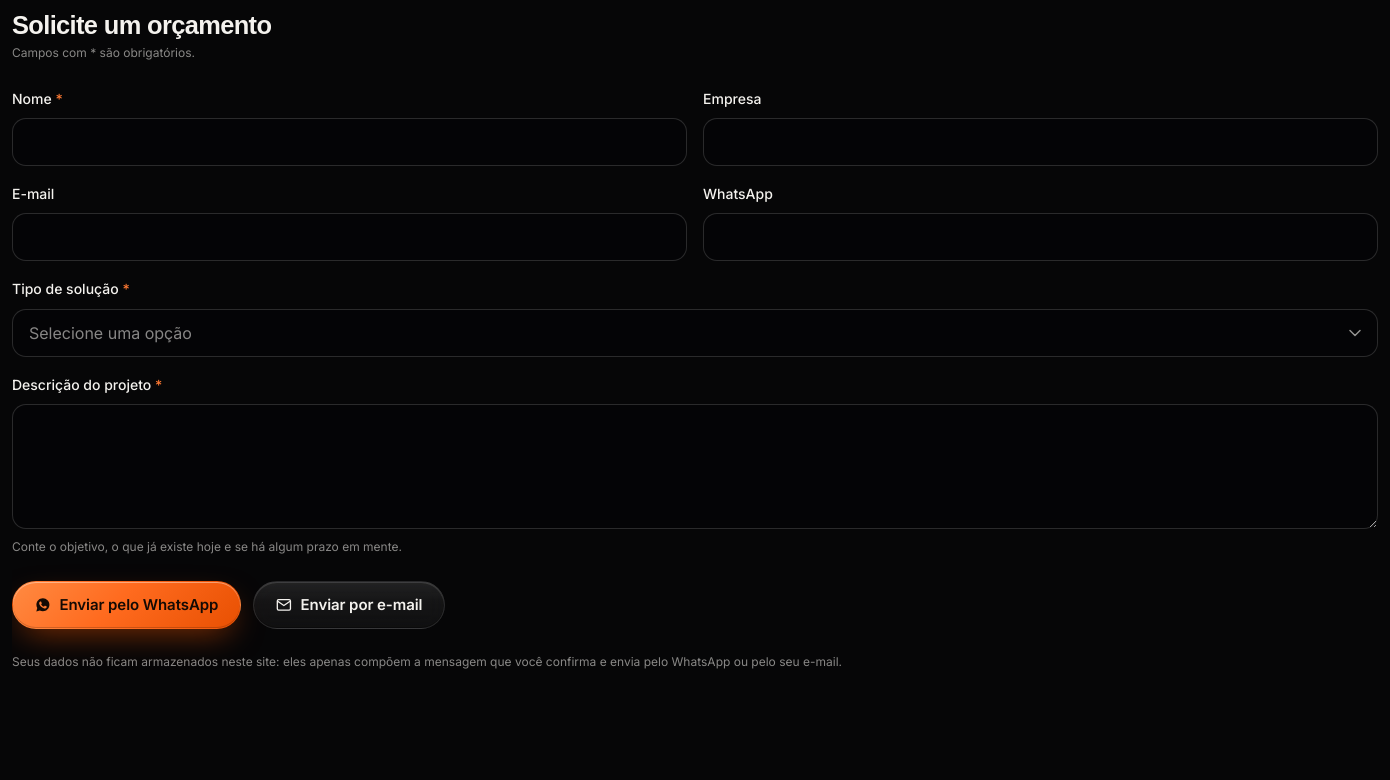
Test: QuoteForm › nunca afirma que a mensagem foi enviada — orienta a concluir no aplicativo
Type "Ana Souza" into the field labelled "Nome *" at (350, 142), box [12,118,687,166]
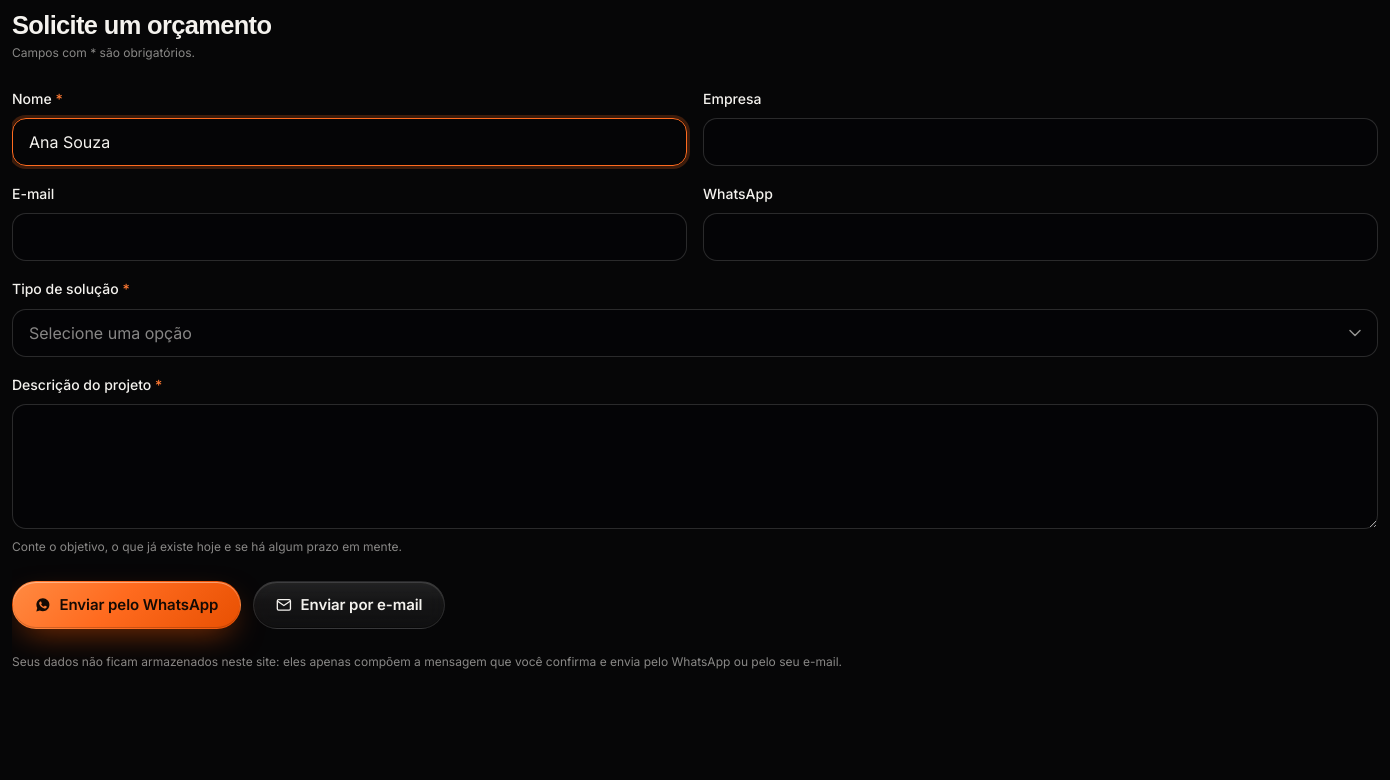
Select "Cloud Computing" in the dropdown labelled "Tipo de solução *" at (695, 333), box [12,309,1378,357]
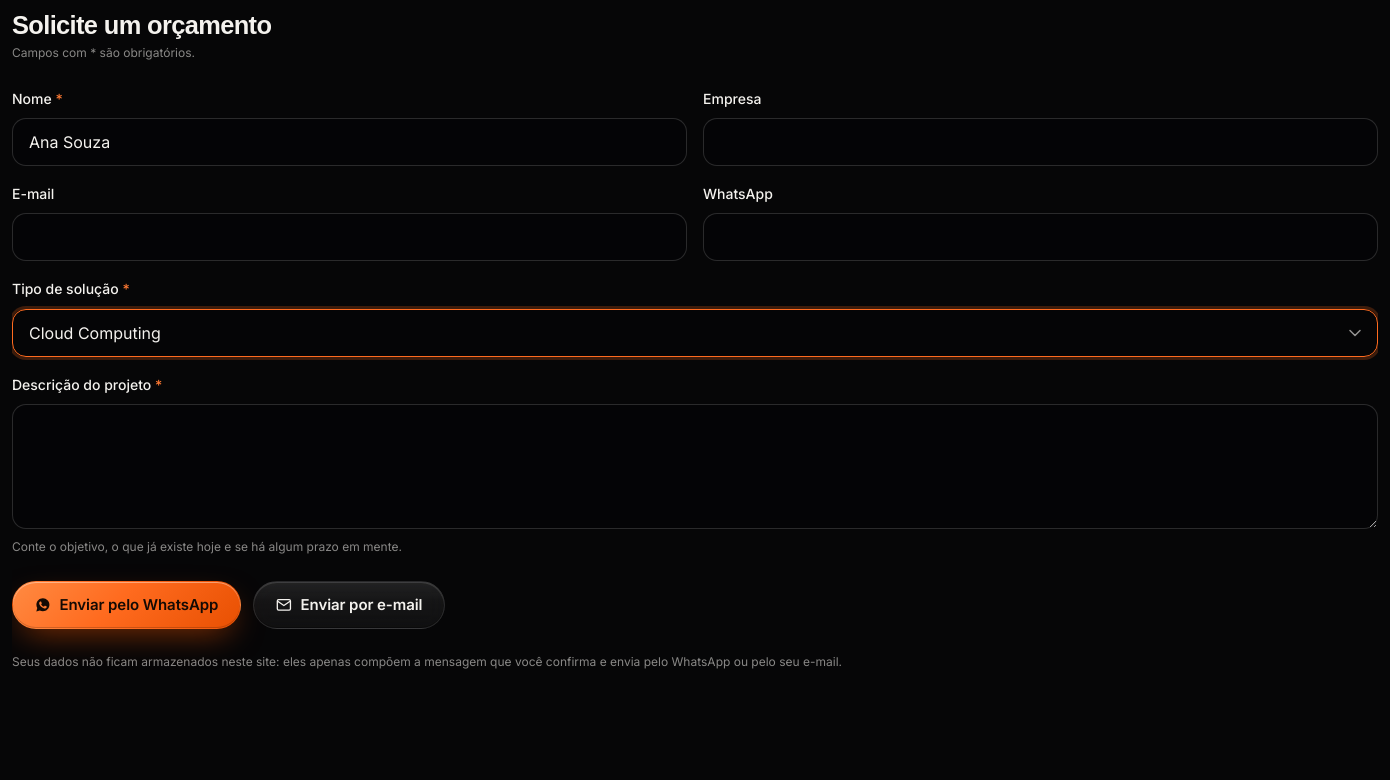
Type "Migrar o sistema atual para a nuvem." into the text box labelled "Descrição do projeto *" at (695, 467), box [12,404,1378,529]
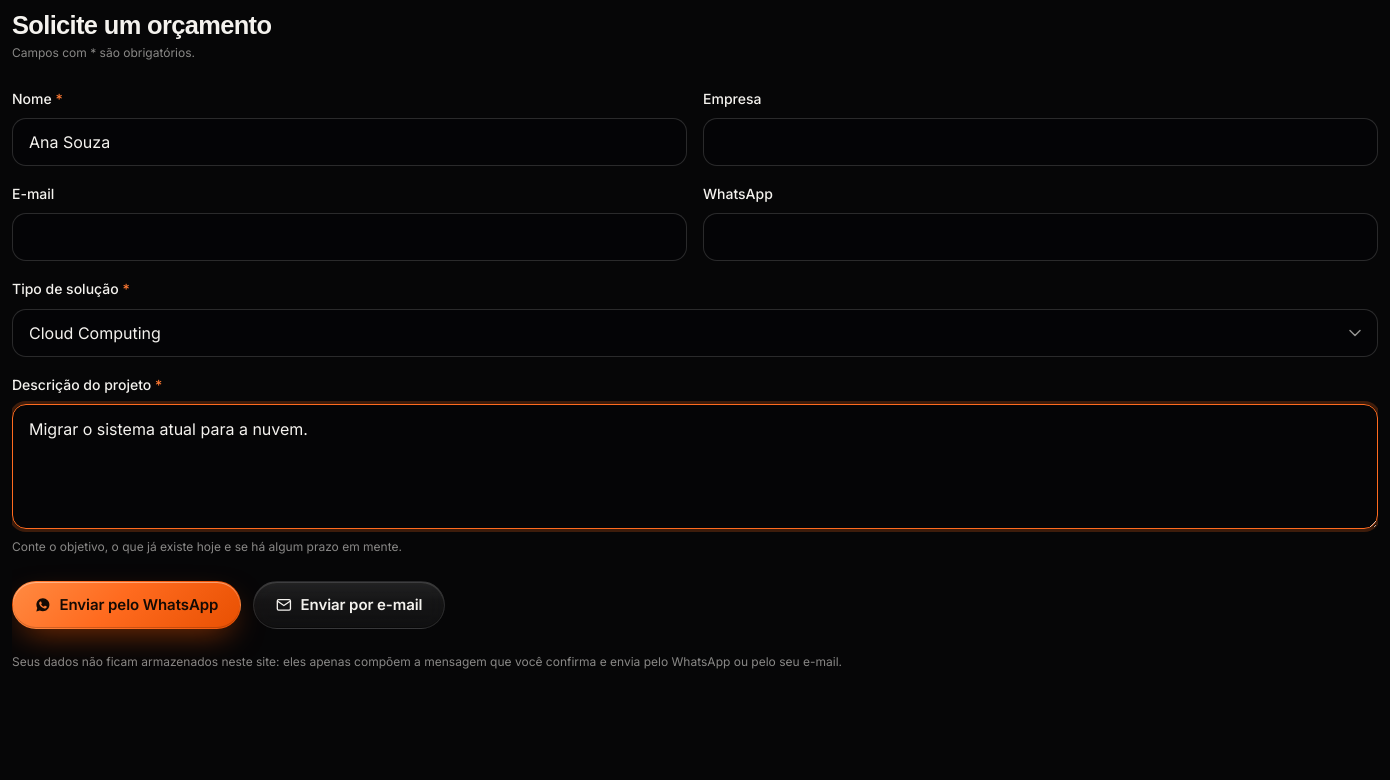
Click the button "Enviar pelo WhatsApp" at (127, 605), box [12,581,241,629]
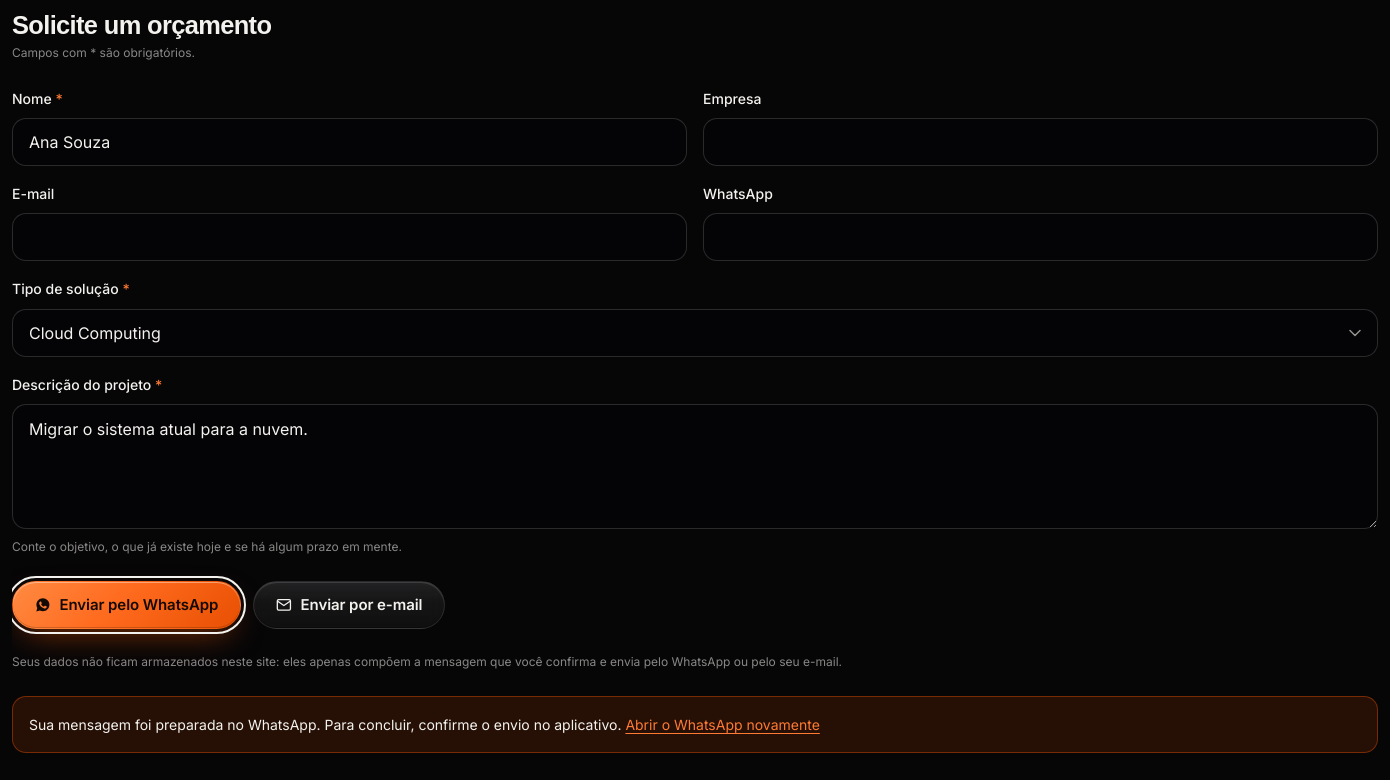
Expected: the message shows "confirme o envio no aplicativo", [29,716,622,733]
